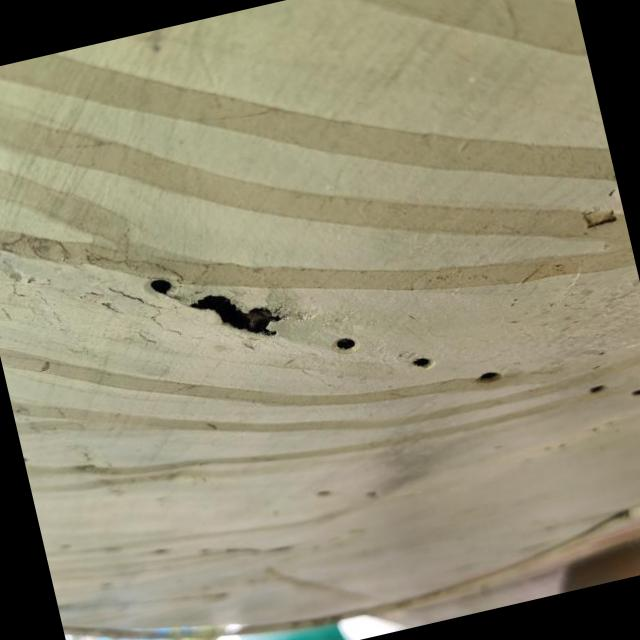Crack: (189, 295, 280, 336)
